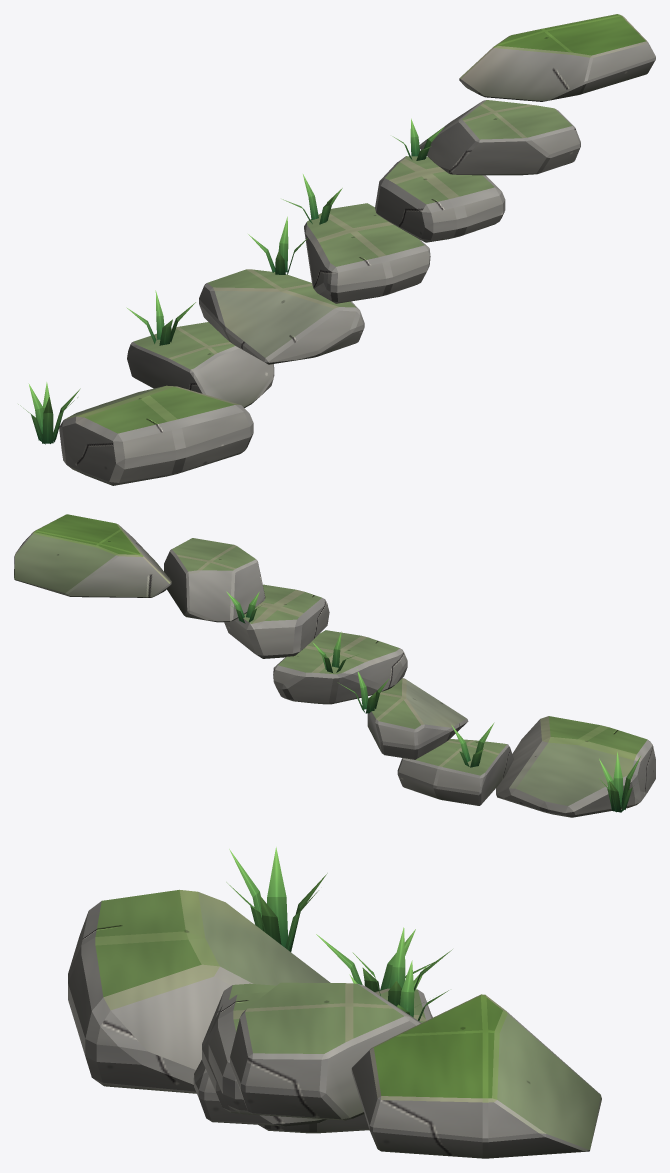
The model's file is terrace_stair.glb.
3 renders of one model, top to bottom at view 1: azimuth 30°, elevation 25°; view 2: azimuth 150°, elevation 25°; view 3: azimuth 270°, elevation 25°, orthographic. The views are drawn at different scales.
Parts seen in each view (by area): view 1: terrace_stair_stones, terrace_stair_weeds; view 2: terrace_stair_stones, terrace_stair_weeds; view 3: terrace_stair_stones, terrace_stair_weeds.
Boxes of the visible parts, x1=… form: terrace_stair_stones: x1=59, y1=14, x2=655, y2=485; terrace_stair_weeds: x1=18, y1=118, x2=444, y2=444; terrace_stair_stones: x1=14, y1=514, x2=655, y2=817; terrace_stair_weeds: x1=226, y1=591, x2=640, y2=812; terrace_stair_stones: x1=68, y1=889, x2=601, y2=1158; terrace_stair_weeds: x1=226, y1=847, x2=452, y2=1020.
Size of the model in its own units: 3.87 by 1.32 by 1.57.
2 materials, 2 textured.
